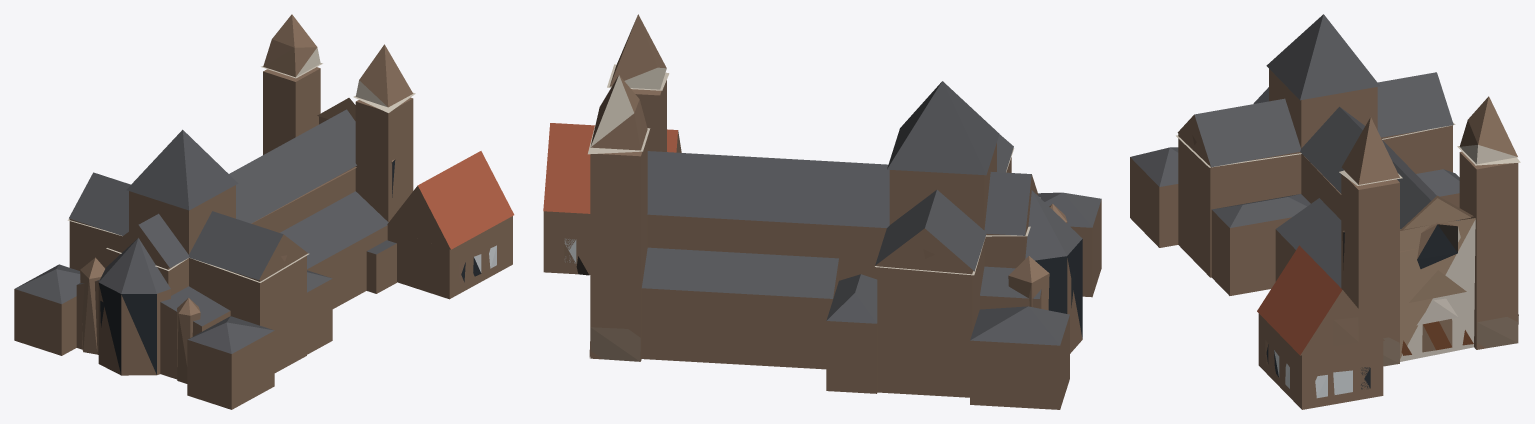
The model's file is obrechtkerk.lod2.glb.
3 views of the same model, side by side, from view 1: azimuth 30°, elevation 25°; view 2: azimuth 150°, elevation 25°; view 3: azimuth 270°, elevation 25° (orthographic). The views are drawn at different scales.
Visible parts, largest first — view 1: lod2; view 2: lod2; view 3: lod2.
Part boxes in pixels (left/top/right/bottom): lod2: left=14, top=14, right=514, bottom=409; lod2: left=543, top=14, right=1101, bottom=409; lod2: left=1130, top=14, right=1520, bottom=409.
Size of the model in its own units: 81.38 by 37.99 by 55.71.
